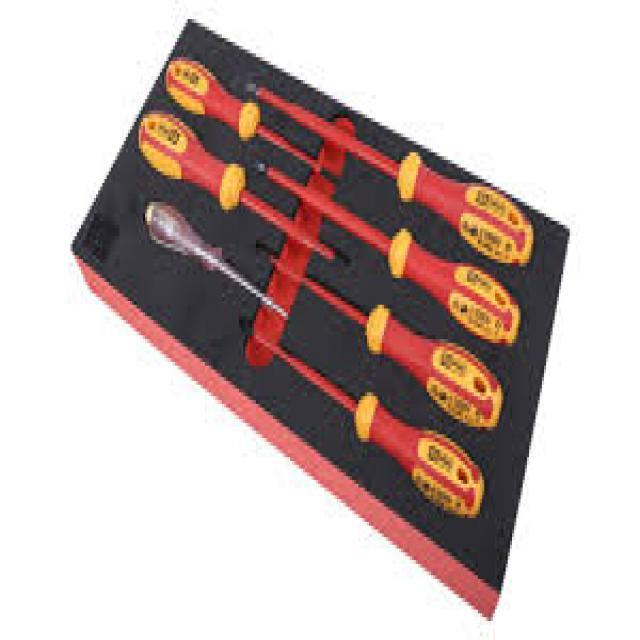screwdriver: (246, 76, 534, 263), (238, 316, 486, 522), (253, 156, 522, 343), (254, 240, 506, 430), (136, 109, 350, 268), (164, 54, 348, 190), (144, 198, 291, 324)
